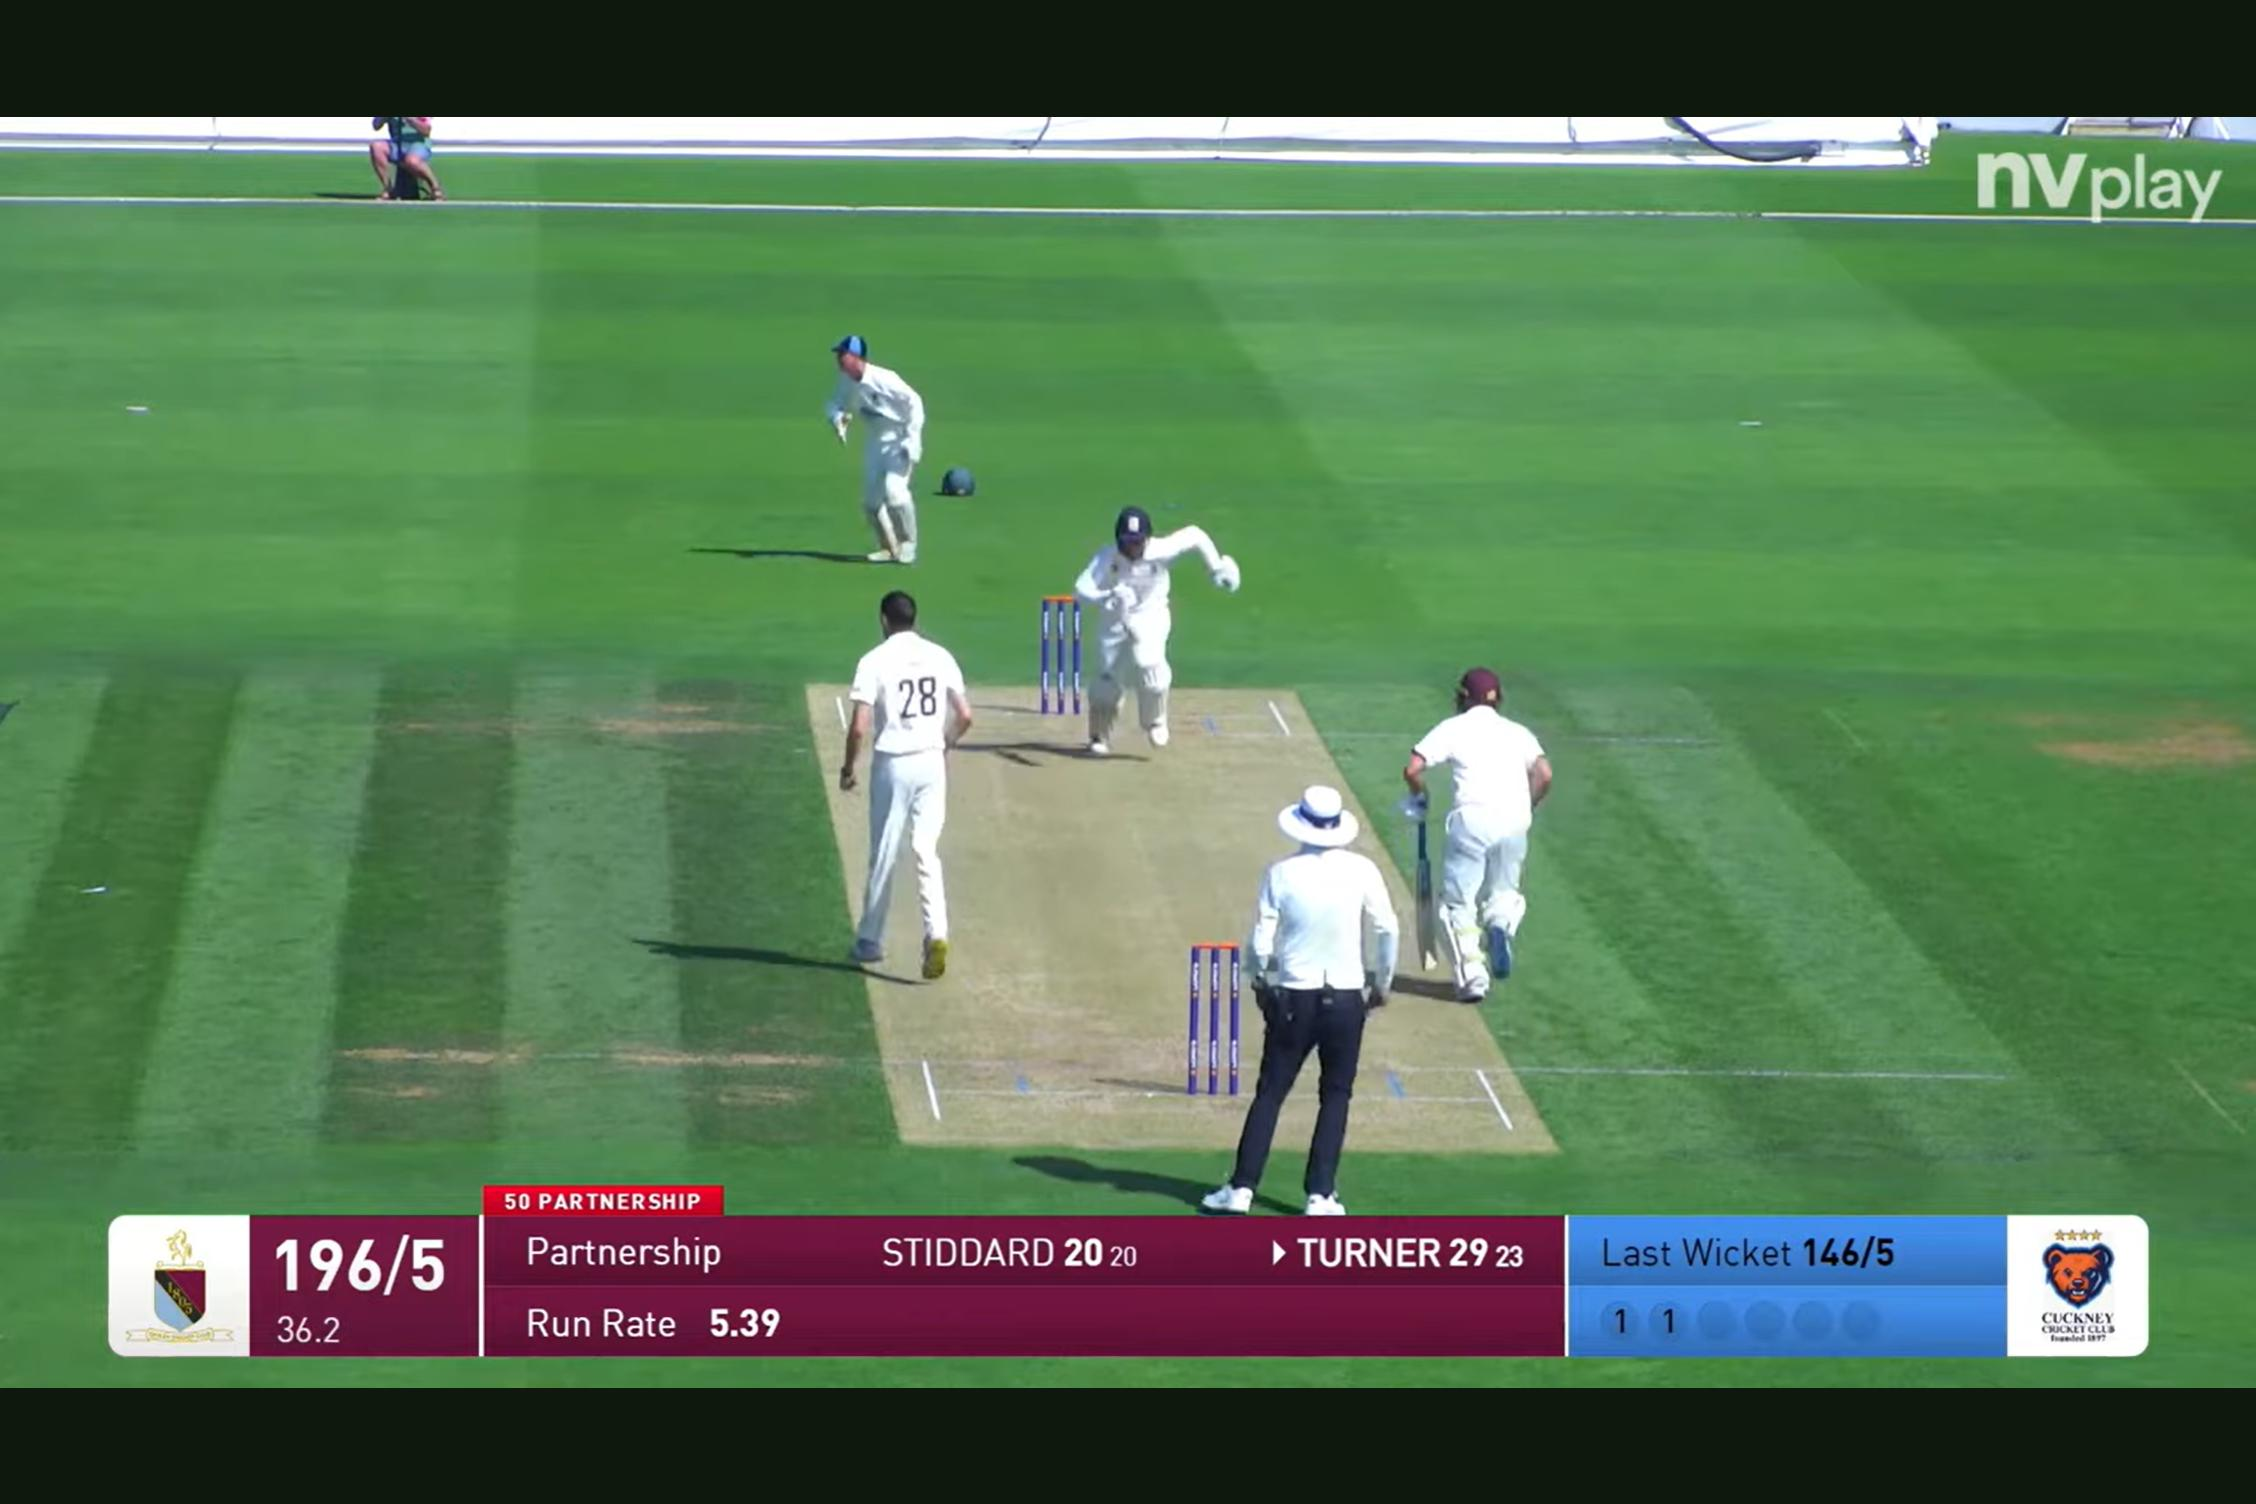bowler running in: (801, 582, 984, 980)
running: (1059, 495, 1286, 765), (1433, 666, 1581, 1046)
umpire: (1188, 769, 1412, 1224)
wicket keeper: (774, 336, 984, 561)
